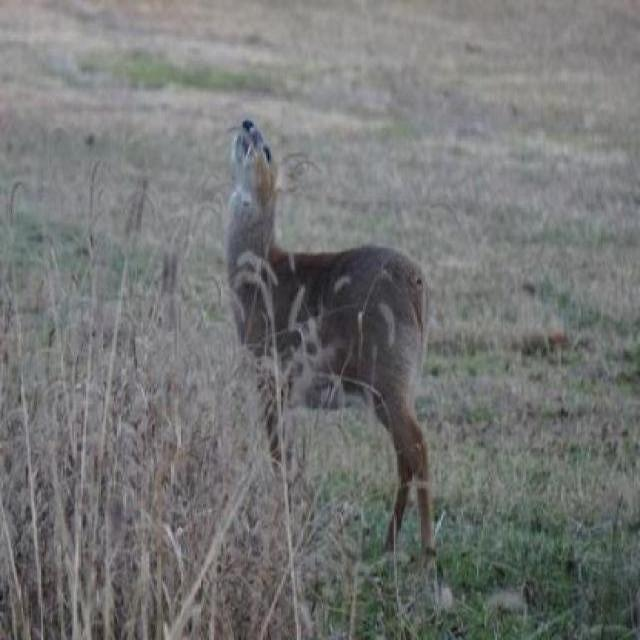deer: (222, 97, 449, 583)
